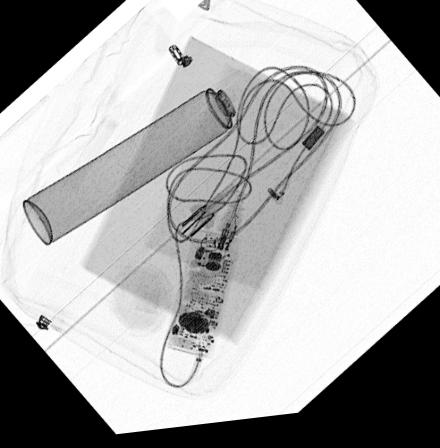Sprayer: (21, 70, 270, 247)
